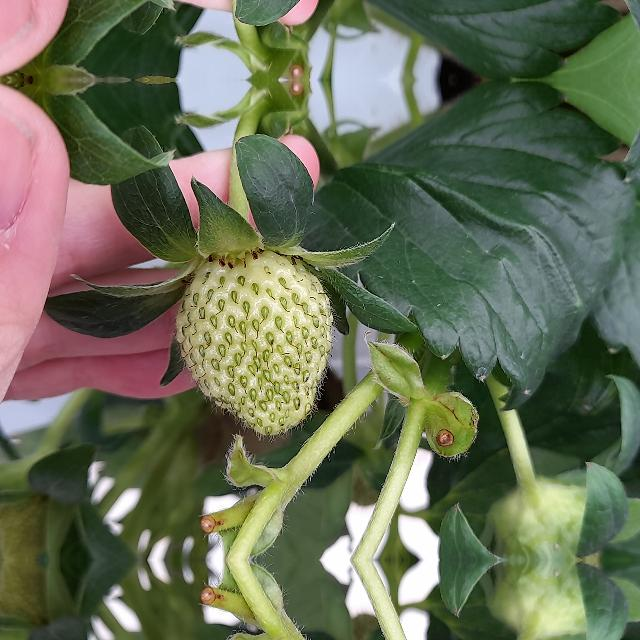Health_25: (175, 250, 333, 434)
